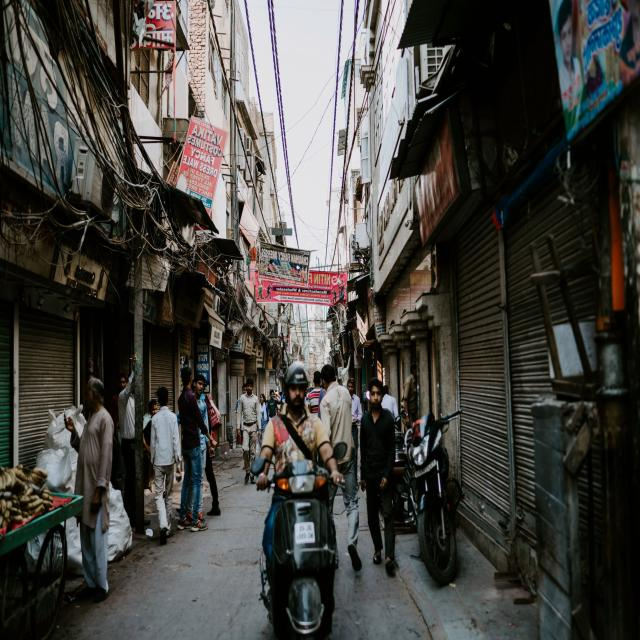adult: (260, 366, 340, 600), (64, 375, 114, 586), (362, 381, 399, 574), (178, 367, 218, 530), (148, 384, 180, 538), (186, 375, 214, 522), (236, 379, 262, 486)
